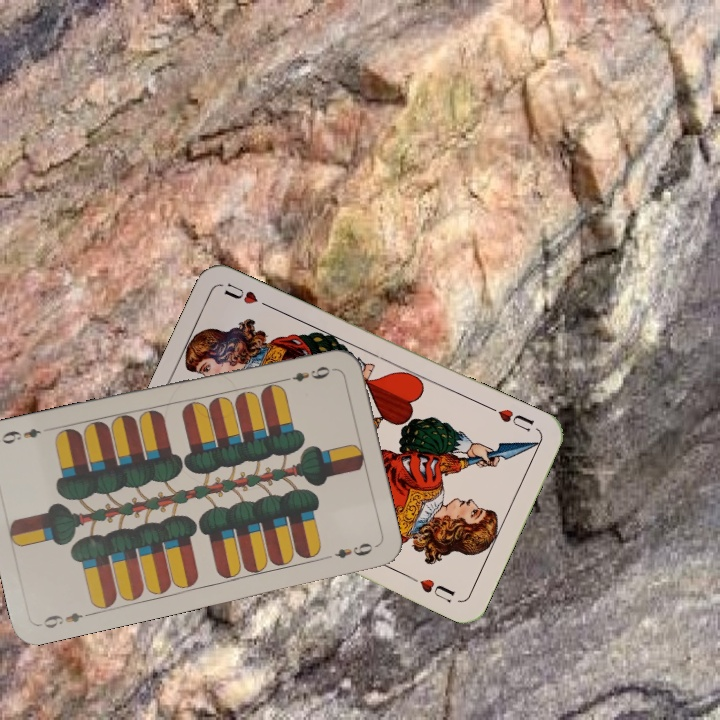E9: (278, 362, 337, 385), (39, 608, 95, 631)
HU: (484, 402, 537, 435)
